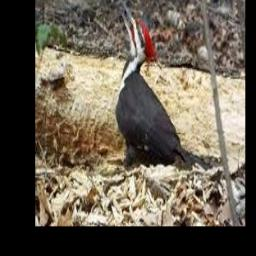Woodpecker: (115, 2, 213, 170)
